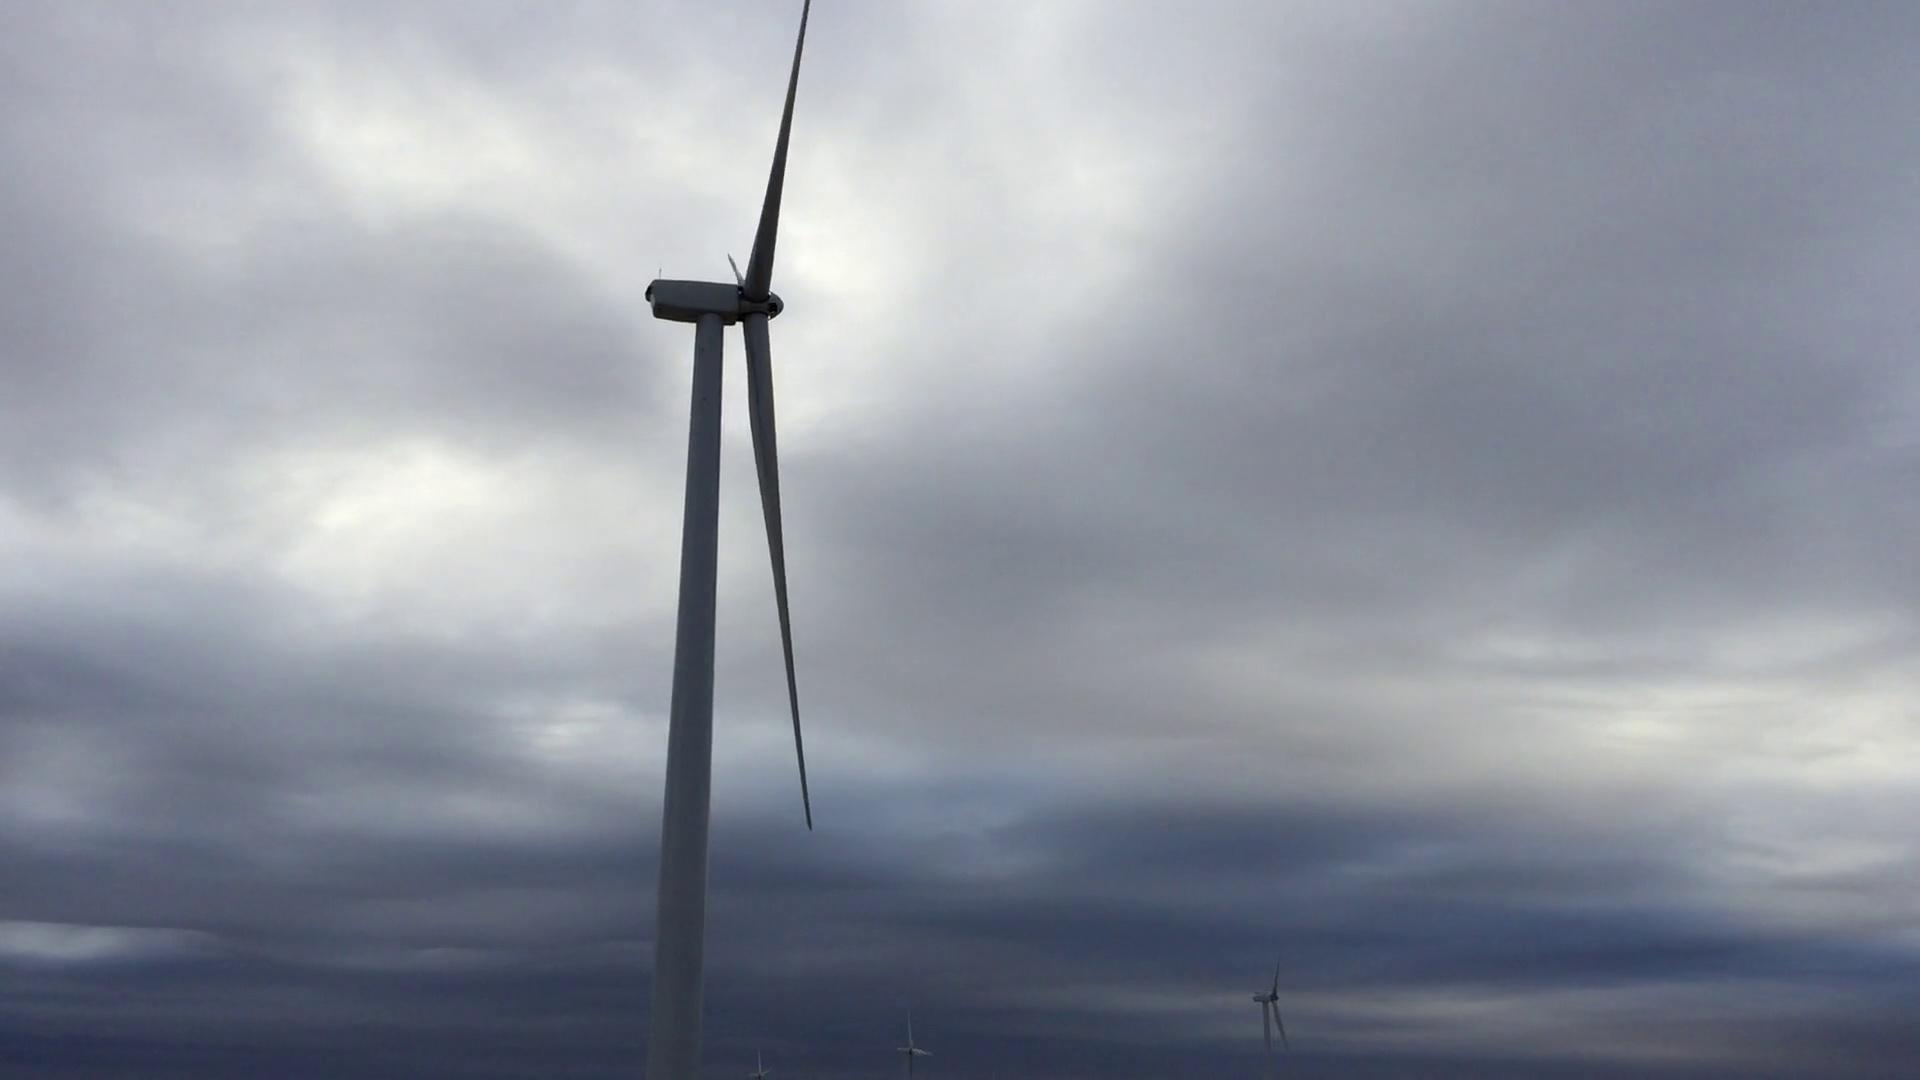turbine: (592, 0, 868, 1080), (1216, 928, 1321, 1080), (866, 988, 945, 1080), (713, 1007, 795, 1080)
